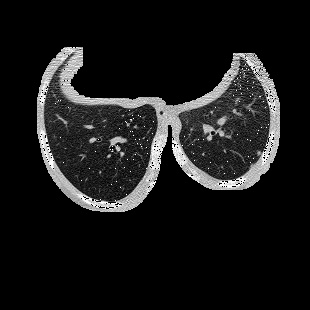PN: (258, 152, 262, 156)
